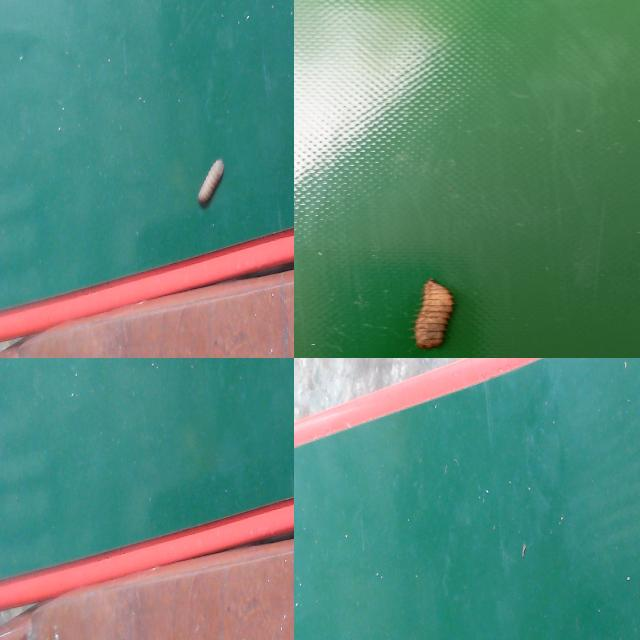Maggot: (413, 281, 456, 352), (196, 159, 225, 210)
